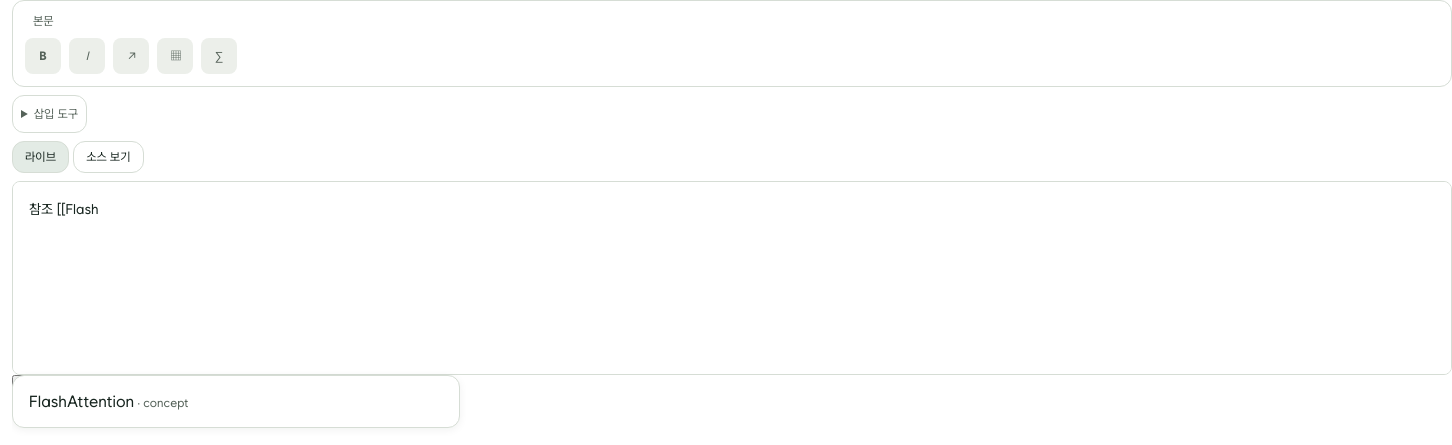
Test: NoteEditor state › inserts a stable wiki link at the current CodeMirror caret
Click the option "FlashAttention · concept". click: (82, 401)
box: x1=21 y1=384 x2=451 y2=419
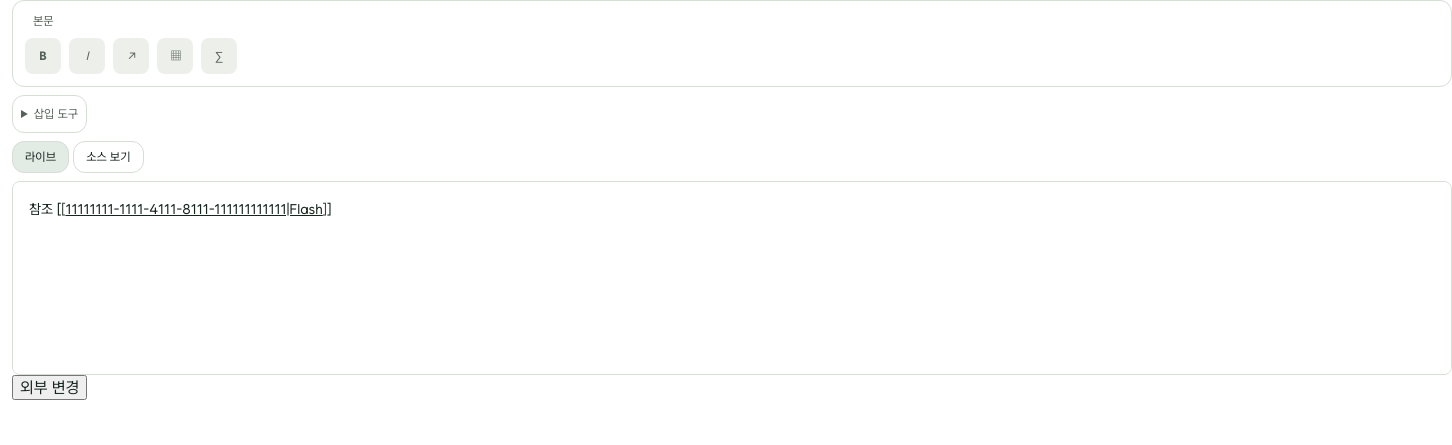
Expected: the text box labelled "참조 [ [11111111-1111-4111-8111-111111111111|Flash]]" is shown, x1=29 y1=201 x2=332 y2=217
